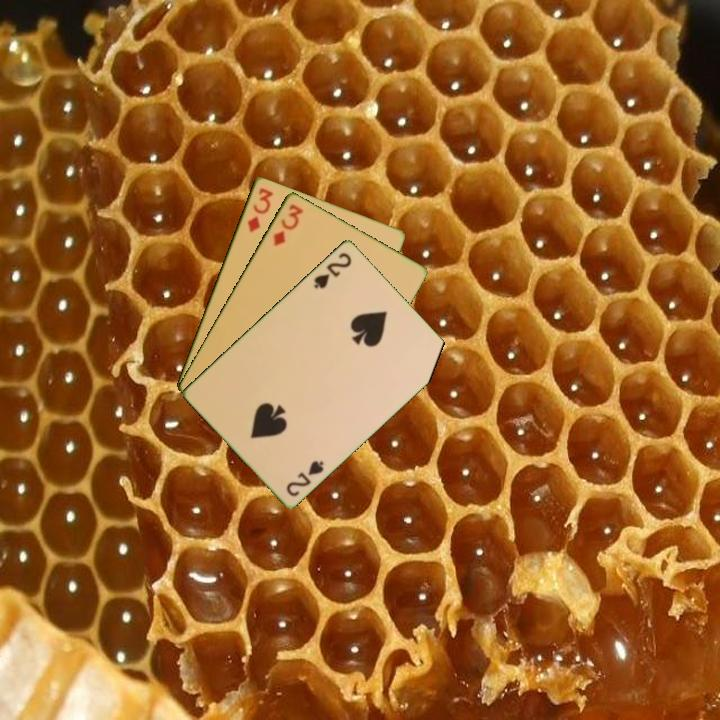2s: (310, 248, 354, 291), (283, 456, 327, 499)
3d: (269, 200, 306, 249), (244, 184, 276, 235)
